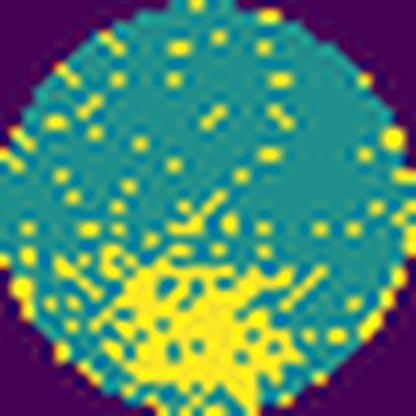Loc: (92, 241, 308, 415)
